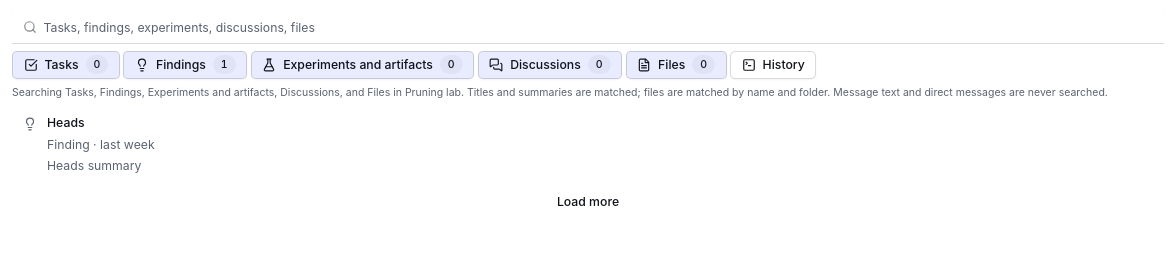
Scenario: WorkspaceSearch › says a later page failed and tries it again, keeping the results it has
The image size is (1176, 262).
Expected: the option "Heads Finding · last week Heads summary" is shown, left=22, top=115, right=155, bottom=174
Click the button "Load more".
click(588, 202)  # box left=12, top=188, right=1164, bottom=216
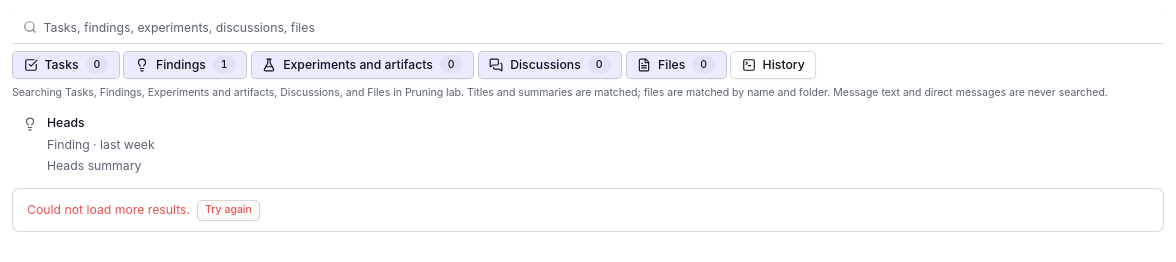
Expected: the option "Heads Finding · last week Heads summary" is shown, left=22, top=115, right=155, bottom=174
Expected: the message "Could not load more results. Try again" is shown, left=12, top=188, right=1164, bottom=232
Click the button "Try again".
click(228, 210)  # box left=197, top=200, right=260, bottom=221
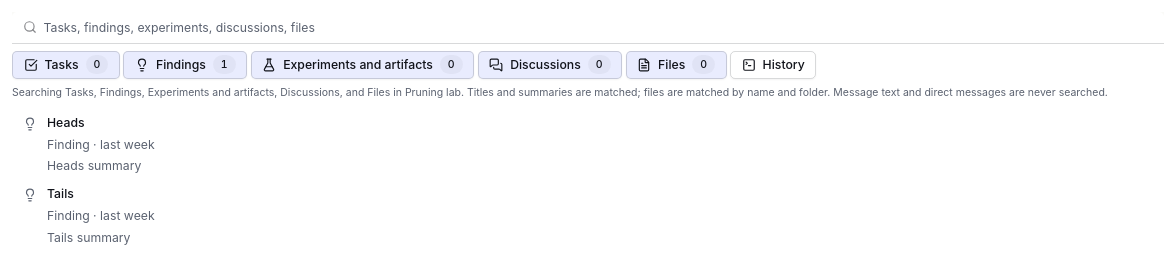
Expected: the option "Tails Finding · last week Tails summary" is shown, left=22, top=186, right=155, bottom=244
